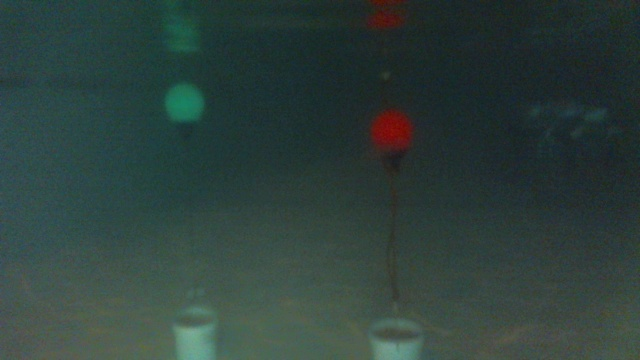buoy_green: (161, 78, 205, 142)
buoy_red: (371, 109, 412, 164)
